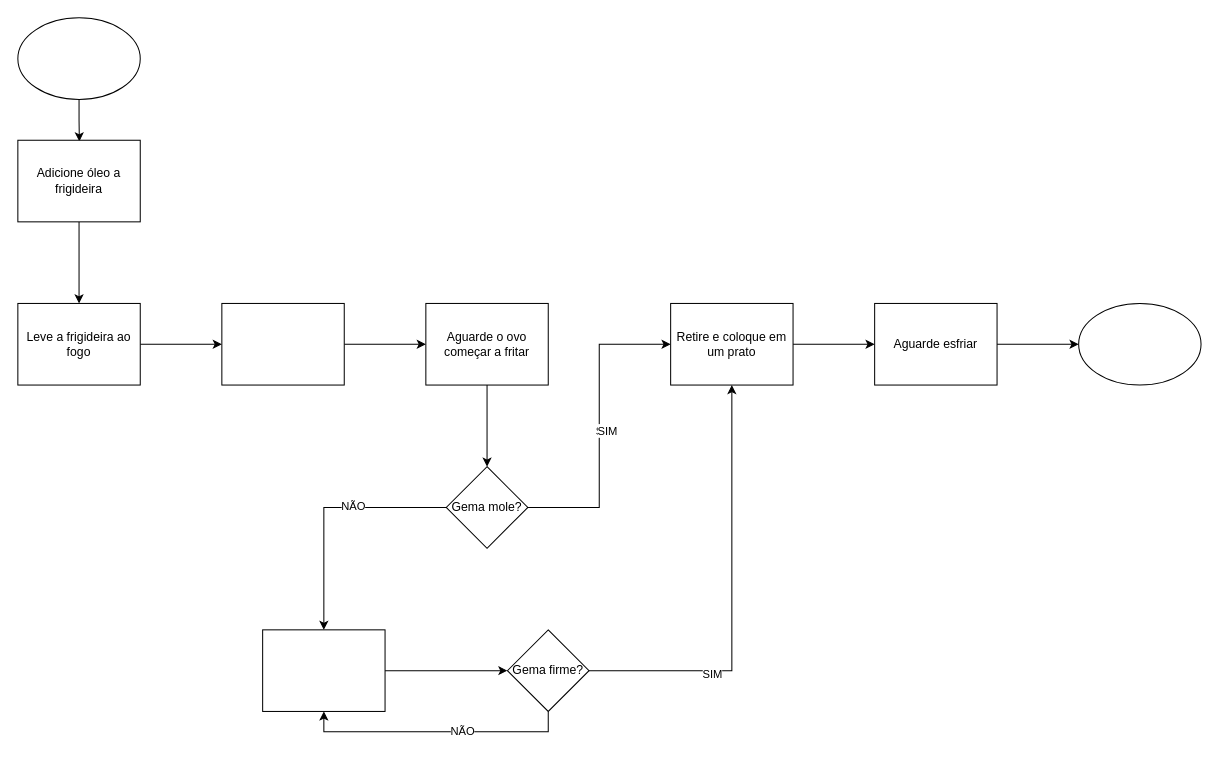
This 1219x758 diagram has some shape labels left out. Here are the shapes that lost their labels. From the top down, the centre of each, then its label:
At [78,58]: "Frigideira, óleo e ovo".
At [282,343]: "Quebre o ovo na frigideira".
At [1139,343]: "Sirva".
At [323,670]: "Mexer com a espátula até ficar firme".
